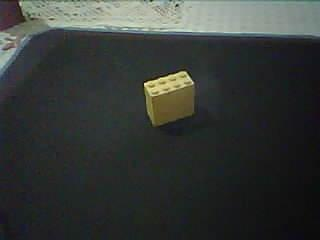lego: (141, 70, 196, 127)
